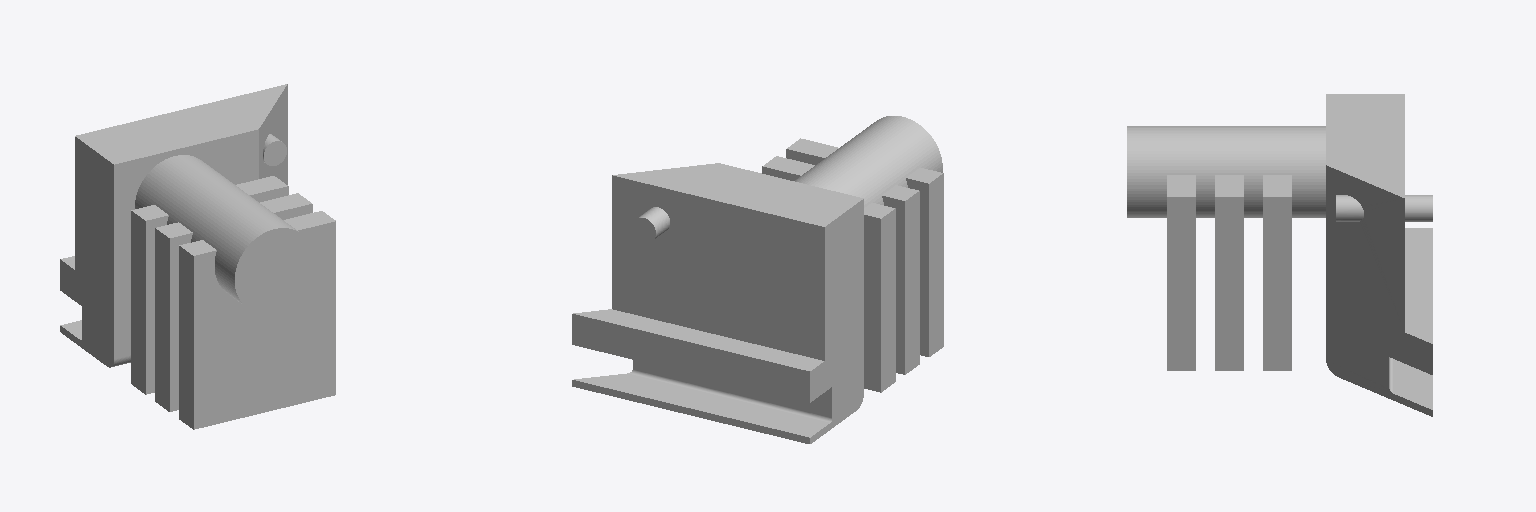
The model's file is Aram_Magholi.obj.
3 renders of one model, left to right at view 1: azimuth 30°, elevation 25°; view 2: azimuth 150°, elevation 25°; view 3: azimuth 270°, elevation 25°, orthographic.
Visible parts, largest first — view 1: Body_01, Body_02_(2), Body_02, Body_02_(1); view 2: Body_01, Body_02, Body_02_(2), Body_02_(1); view 3: Body_01, Body_02, Body_02_(1), Body_02_(2).
Boxes of the visible parts, <box> form: Body_01: <box>60,84,313,367</box>; Body_02_(2): <box>179,211,335,429</box>; Body_02: <box>131,176,288,394</box>; Body_02_(1): <box>155,193,312,411</box>; Body_01: <box>572,116,942,443</box>; Body_02: <box>864,203,895,392</box>; Body_02_(2): <box>786,138,943,356</box>; Body_02_(1): <box>762,156,919,374</box>; Body_01: <box>1127,94,1432,416</box>; Body_02: <box>1263,175,1291,370</box>; Body_02_(1): <box>1215,175,1243,370</box>; Body_02_(2): <box>1167,175,1195,370</box>.
Size of the model in its own units: 143 by 119 by 160.